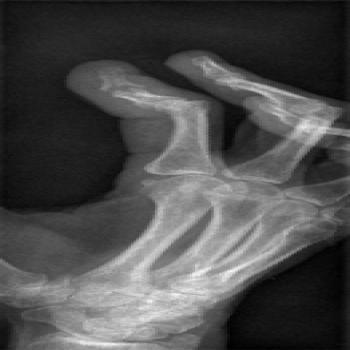Fracture: (96, 78, 168, 99)
